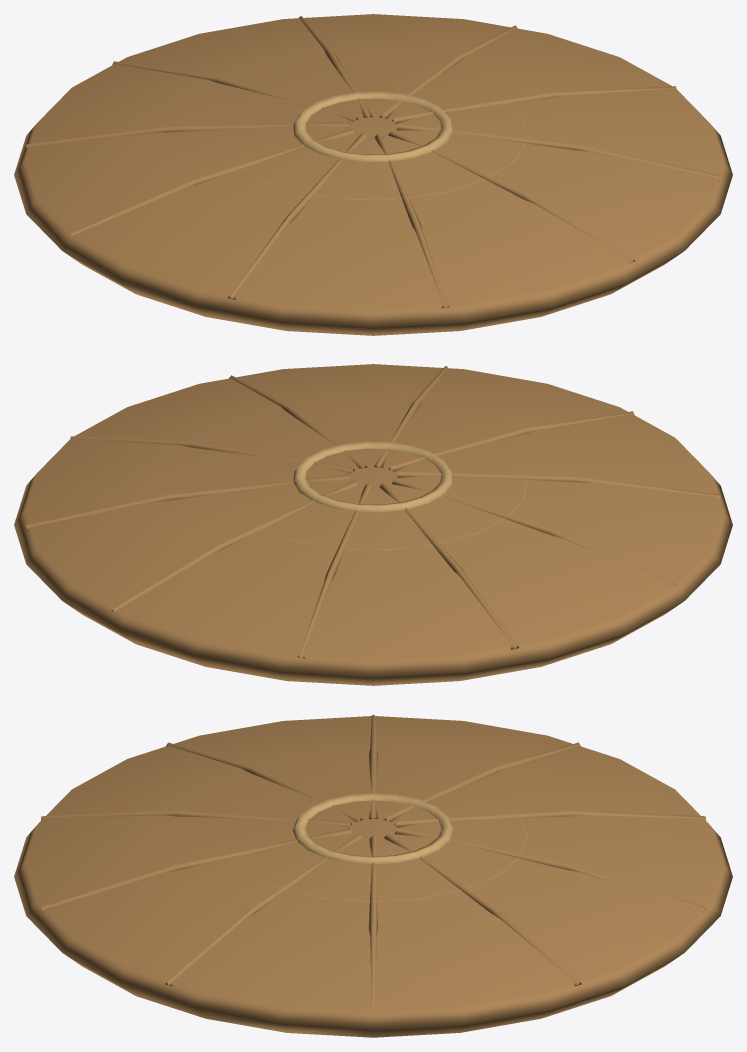
The model's file is basket_lid.glb.
The picture shows the model from 3 angles, top to bottom: view 1: azimuth 30°, elevation 25°; view 2: azimuth 150°, elevation 25°; view 3: azimuth 270°, elevation 25°; orthographic projection.
Parts seen in each view (by area): view 1: basket_lid; view 2: basket_lid; view 3: basket_lid.
Boxes of the visible parts, x1,y1,x2,y2 form: basket_lid: (14,14,732,335); basket_lid: (14,364,732,685); basket_lid: (14,714,732,1037).
Bounding box in the file's own units: 0.46 × 0.05 × 0.46.
